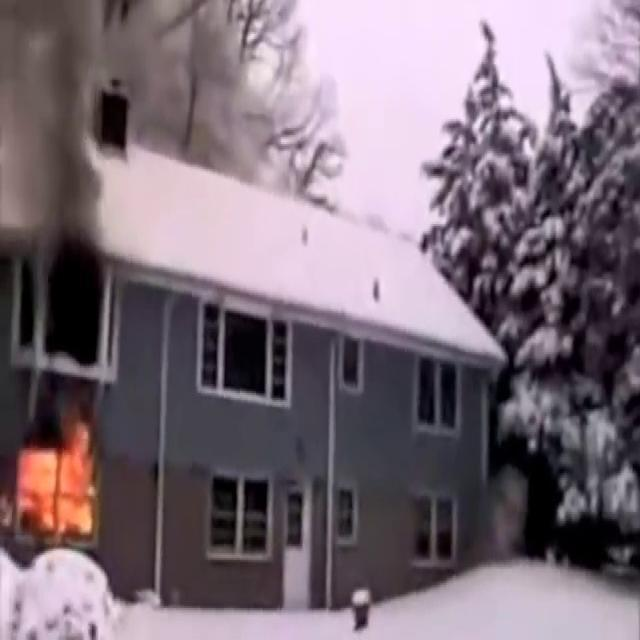Fire: (2, 410, 108, 554)
Smoke: (84, 0, 294, 183), (0, 0, 113, 276)
